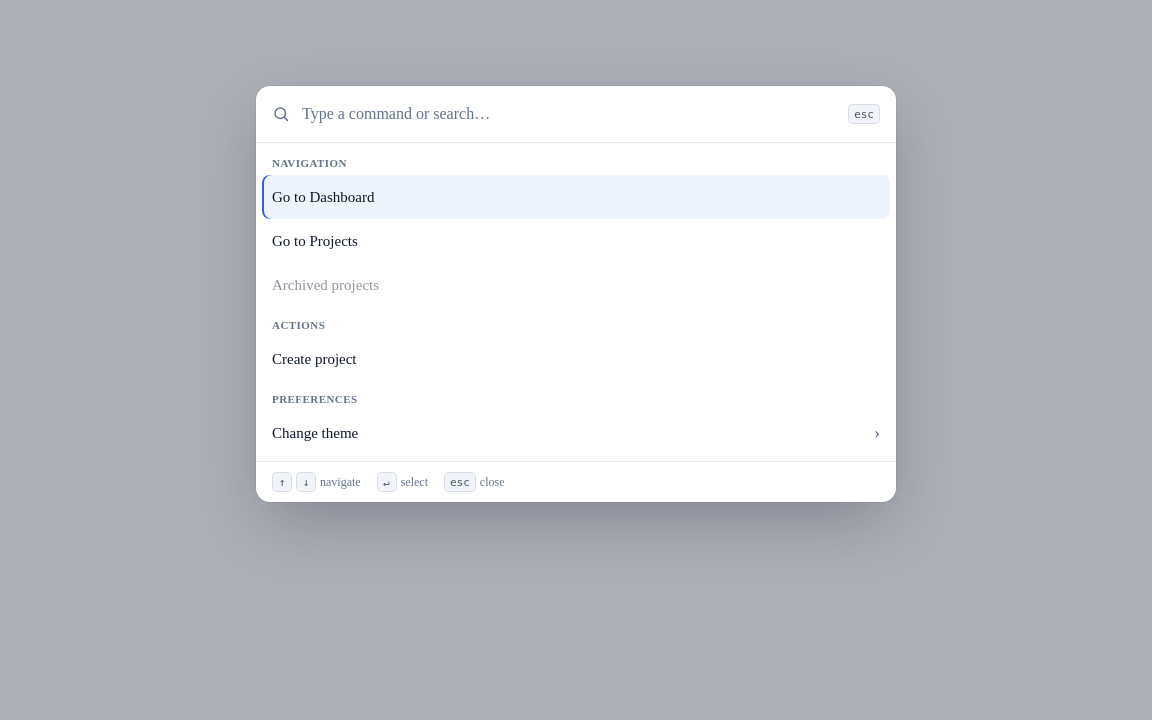
Test case: nested pages › opens a page, shows breadcrumbs, and goes back with Backspace or Escape
Type "theme" into the dropdown with placeholder "Type a command or search…" at (569, 114), box [300,86,838,142]
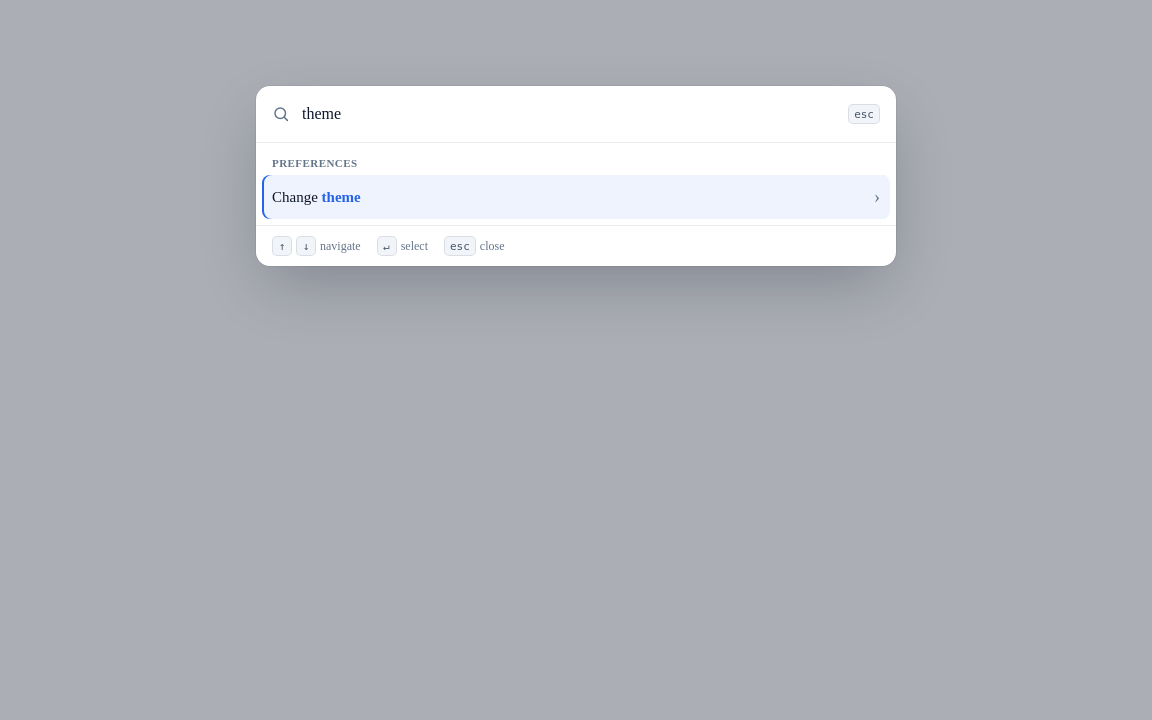
Press Enter in the dropdown named "Command palette", box [300,86,838,142]
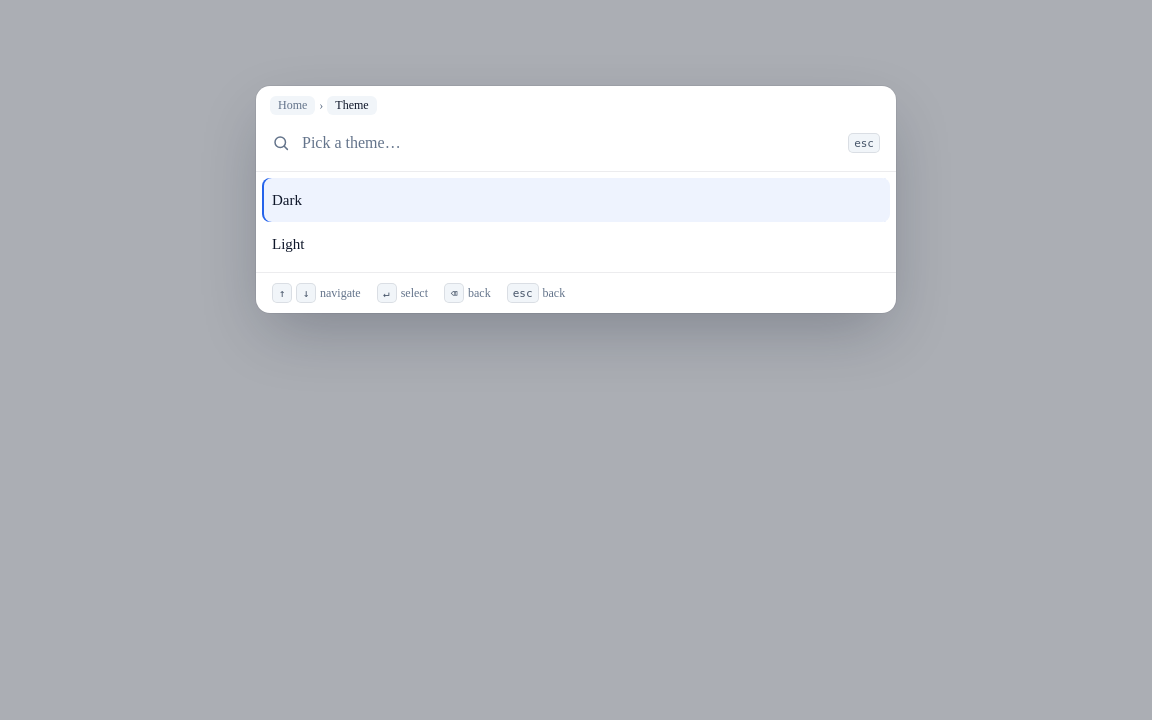
Expected: the dropdown with placeholder "Pick a theme…" is empty
Expected: the navigation bar shows "Theme", [327,96,377,115]
Press Backspace in the dropdown with placeholder "Pick a theme…", box [300,115,838,171]
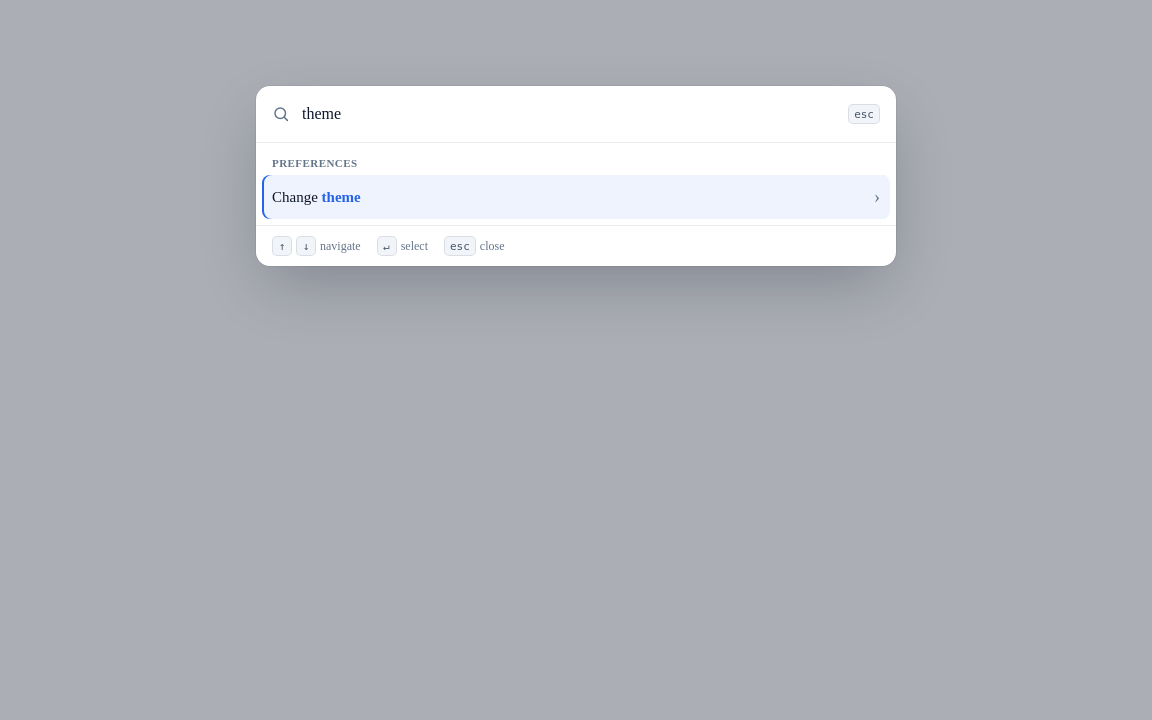
Expected: the element showing "Change theme" is shown, [272,189,361,205]
Press Enter in the dropdown named "Command palette", box [300,86,838,142]
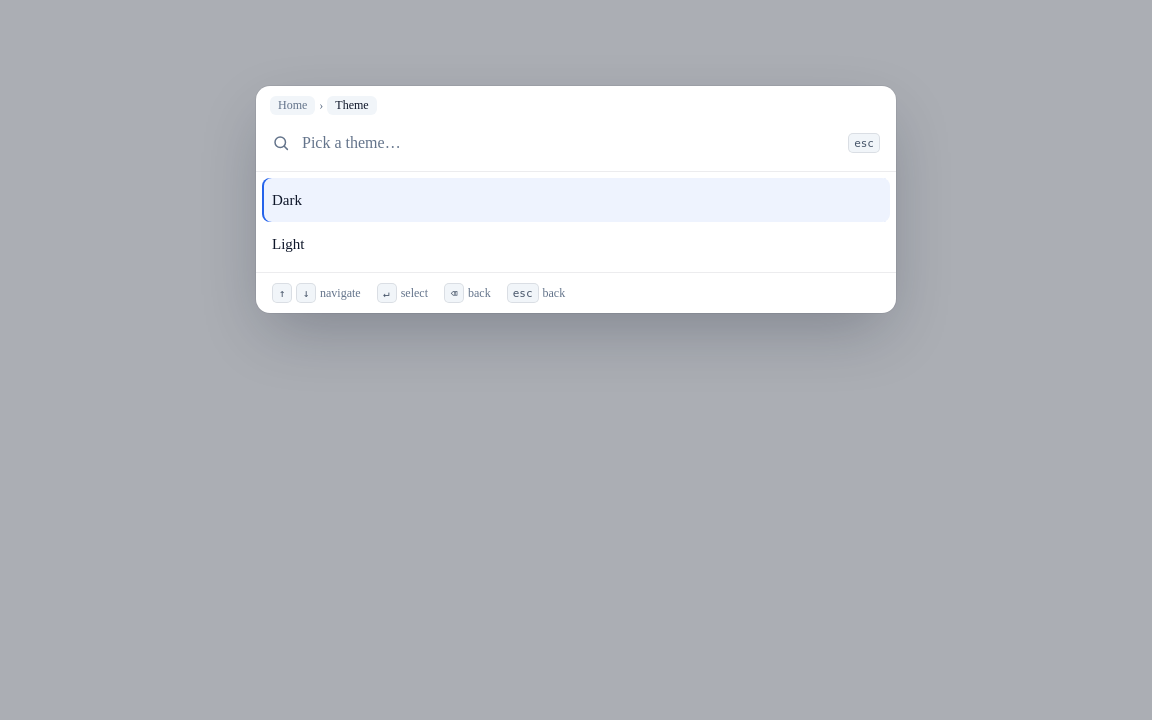
Press Escape in the dropdown with placeholder "Pick a theme…", box [300,115,838,171]
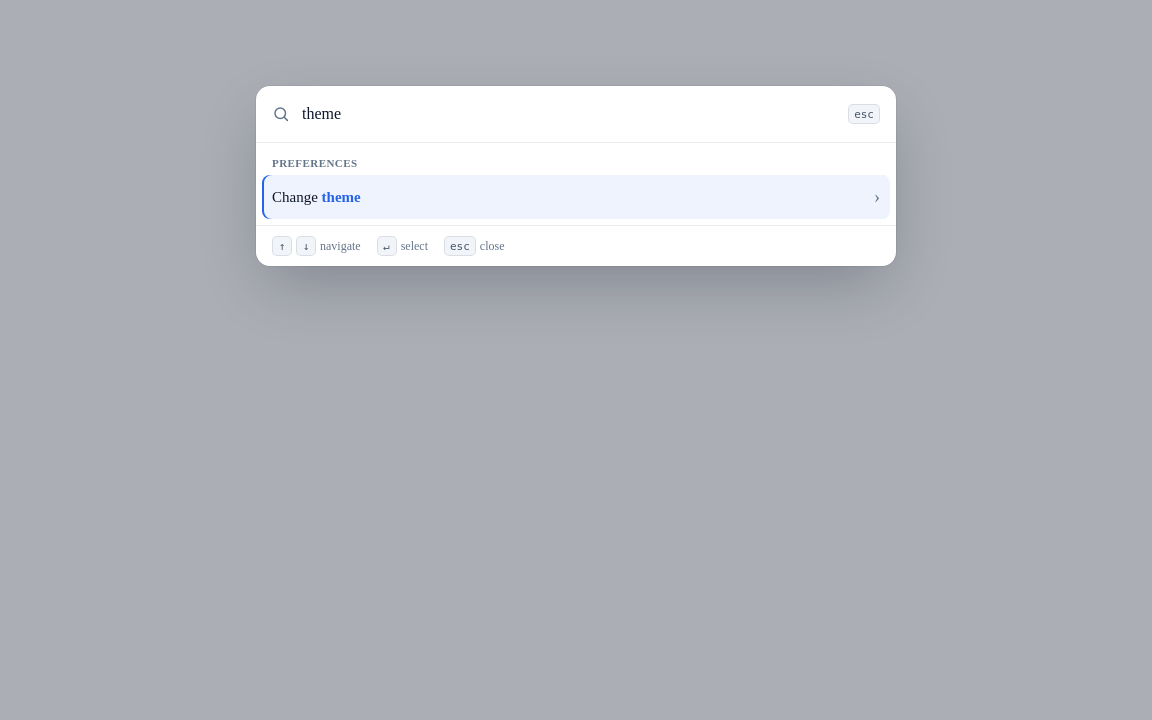
Expected: the element showing "Change theme" is shown, [272,189,361,205]
